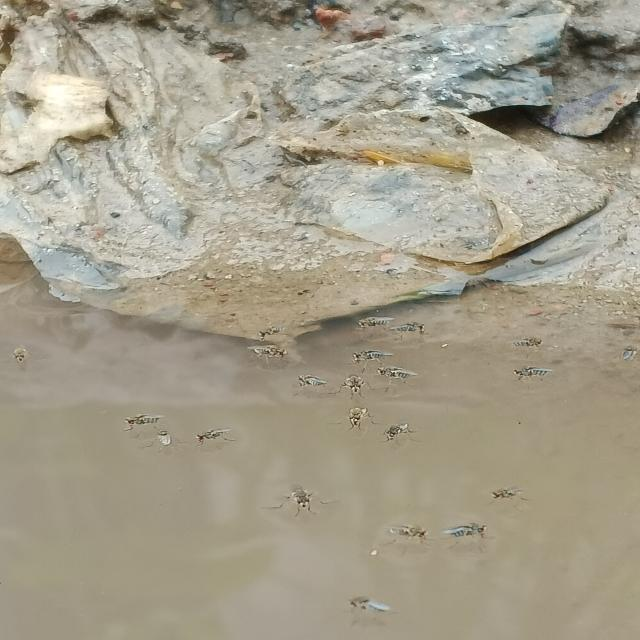Breeding Place: (0, 275, 640, 640)
